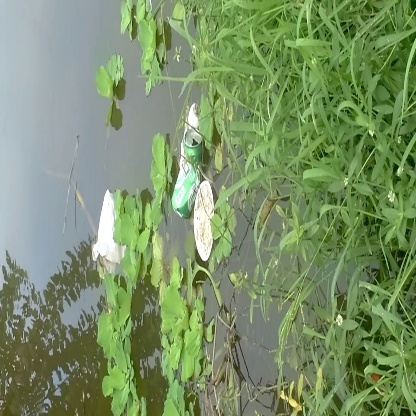bottle: (170, 128, 207, 220)
